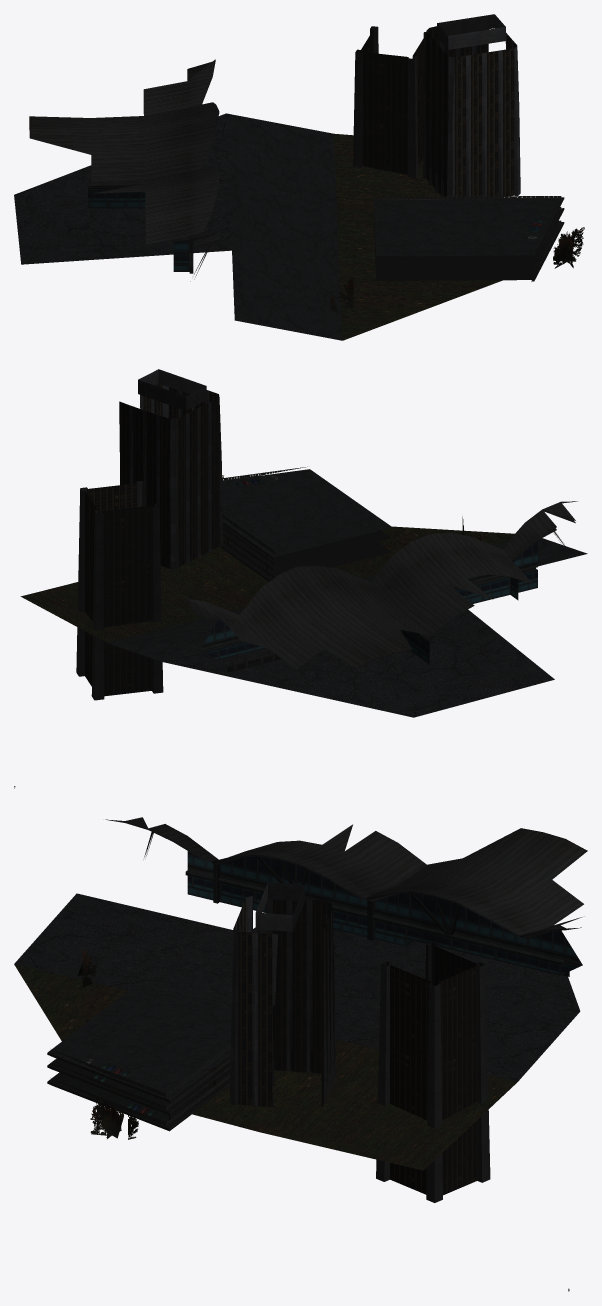
Rendered from cell_-1_0.gltf.
3 renders of one model, top to bottom at view 1: azimuth 30°, elevation 25°; view 2: azimuth 150°, elevation 25°; view 3: azimuth 270°, elevation 25°, orthographic. The views are drawn at different scales.
Visible parts, largest first — view 1: cell_-1_0; view 2: cell_-1_0; view 3: cell_-1_0.
Boxes of the visible parts, x1,y1,x2,y2 form: cell_-1_0: [14, 14, 584, 340]; cell_-1_0: [14, 369, 587, 788]; cell_-1_0: [14, 817, 587, 1291].
Size of the model in its own units: 362 by 219 by 305.
Materials: 24 (24 with a texture image).
